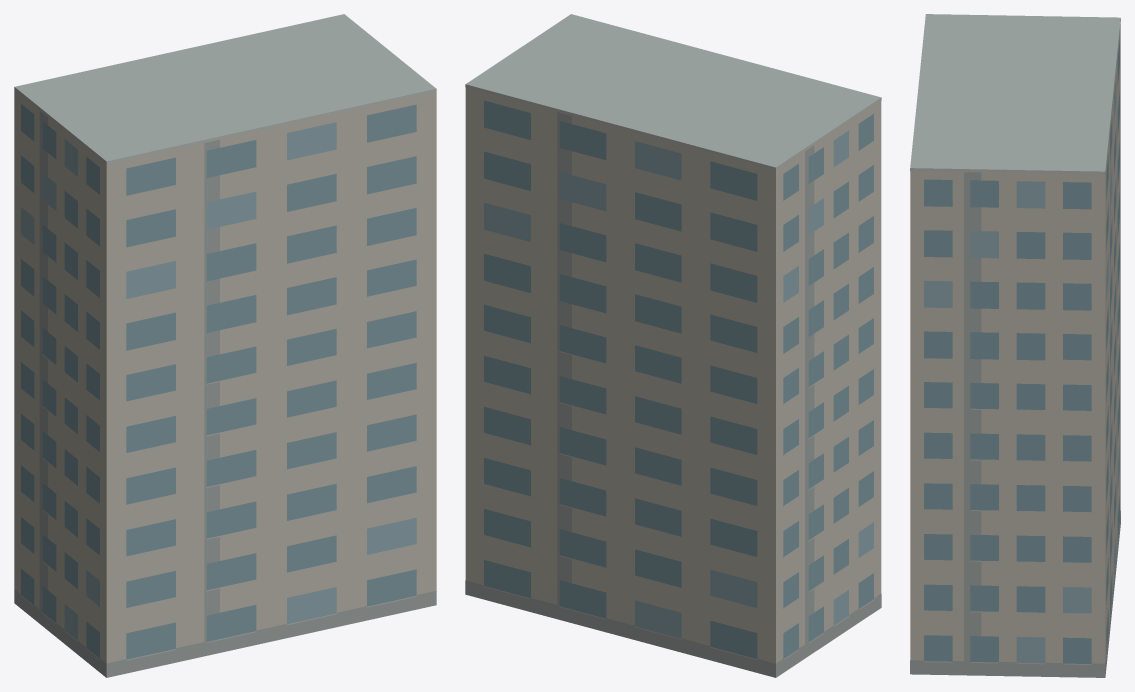
File: residential-7d854cdf-9d8f-4657-a177-ad92c936a4a6.glb
3 views of the same model, side by side, from view 1: azimuth 30°, elevation 25°; view 2: azimuth 150°, elevation 25°; view 3: azimuth 270°, elevation 25° (orthographic). The views are drawn at different scales.
Visible parts, largest first — view 1: residential-7d854cdf-9d8f-4657-a177-ad92c936a4a6.tmp; view 2: residential-7d854cdf-9d8f-4657-a177-ad92c936a4a6.tmp; view 3: residential-7d854cdf-9d8f-4657-a177-ad92c936a4a6.tmp.
Part boxes in pixels (x1,y1,x2,y2): residential-7d854cdf-9d8f-4657-a177-ad92c936a4a6.tmp: (14, 14, 436, 677); residential-7d854cdf-9d8f-4657-a177-ad92c936a4a6.tmp: (465, 14, 881, 677); residential-7d854cdf-9d8f-4657-a177-ad92c936a4a6.tmp: (910, 14, 1120, 677).
Bounding box in the file's own units: 26.04 × 39 × 14.72.
